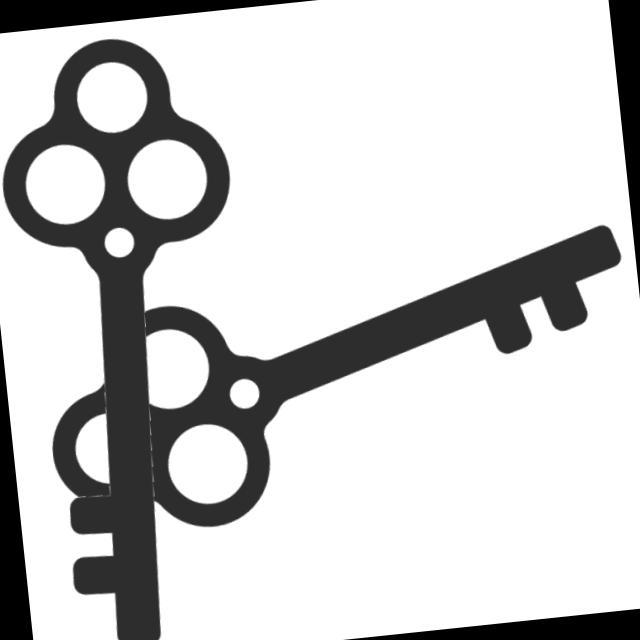key: (27, 208, 640, 559), (1, 20, 287, 640)
